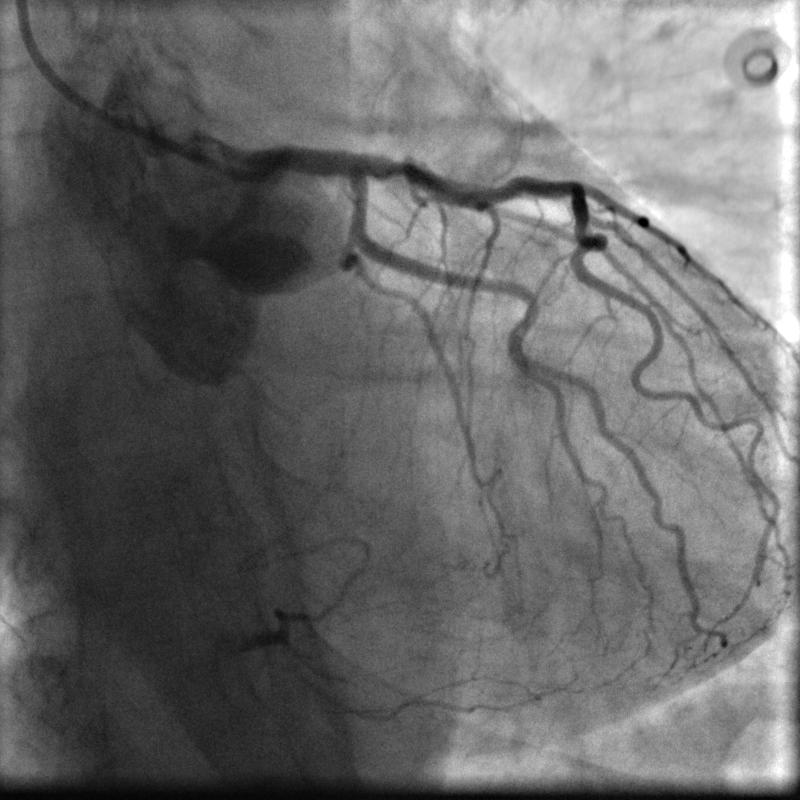Stenosis: (377, 150, 420, 182)
